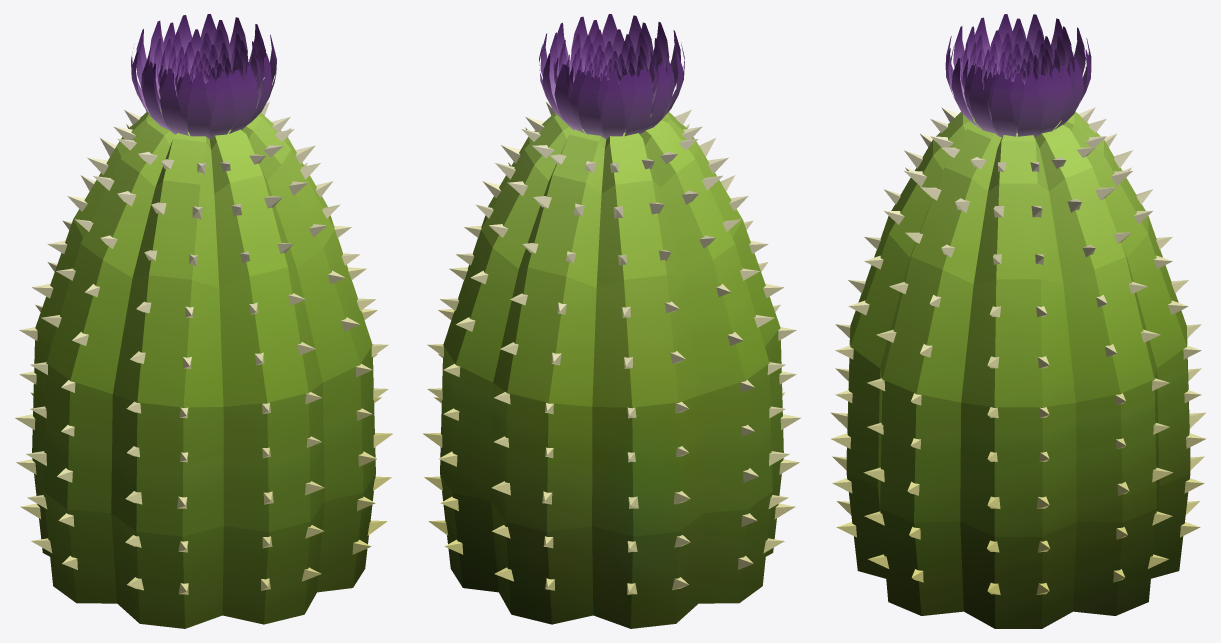
Rendered from cactus_sol.fbx.
The picture shows the model from 3 angles, left to right: view 1: azimuth 30°, elevation 25°; view 2: azimuth 150°, elevation 25°; view 3: azimuth 270°, elevation 25°; orthographic projection.
Parts seen in each view (by area): view 1: Cactus-O.002; view 2: Cactus-O.002; view 3: Cactus-O.002.
Part boxes in pixels (x1=…): Cactus-O.002: x1=14, y1=14, x2=392, y2=628; Cactus-O.002: x1=423, y1=14, x2=801, y2=628; Cactus-O.002: x1=830, y1=14, x2=1206, y2=628.
Bounding box in the file's own units: 90.63 × 138 × 90.63.
